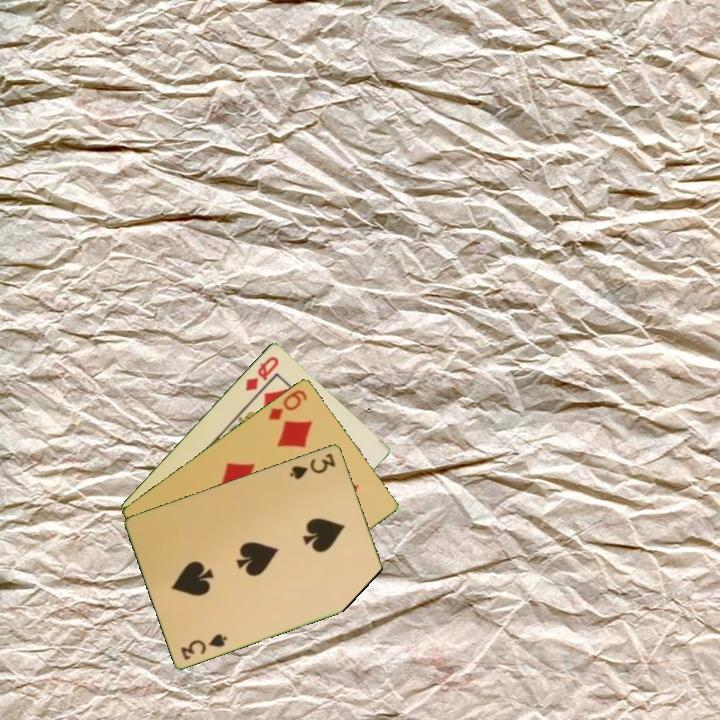3s: (286, 449, 339, 482), (177, 630, 230, 662)
6d: (264, 386, 310, 423)
Qd: (241, 352, 282, 394)
